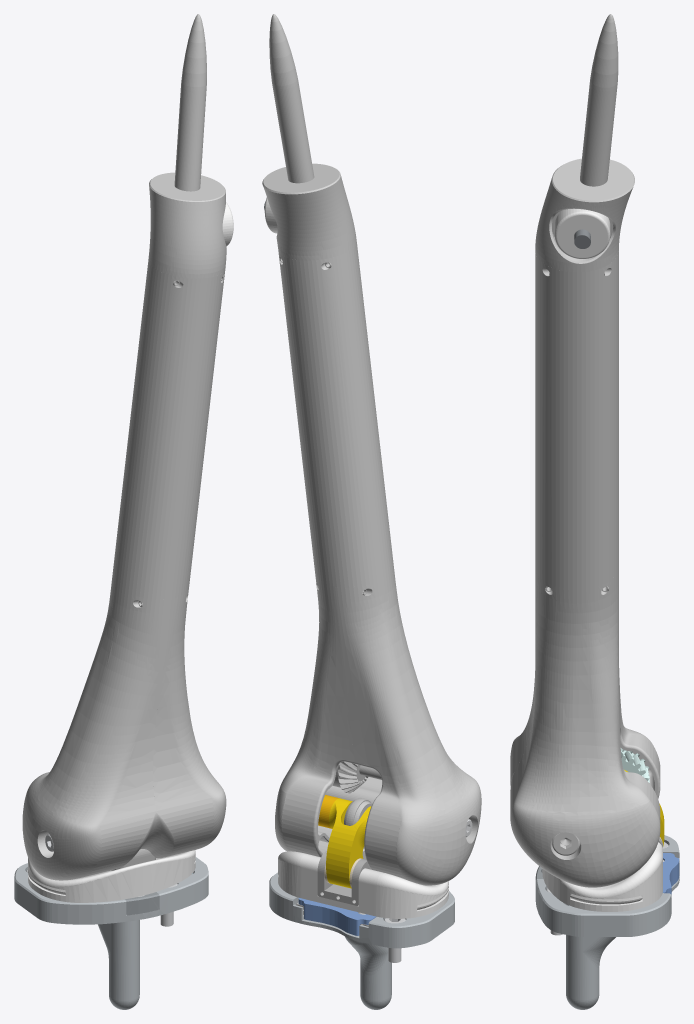
The model's file is aakj-v3-native-rebound.glb.
The picture shows the model from 3 angles, left to right: view 1: azimuth 30°, elevation 25°; view 2: azimuth 150°, elevation 25°; view 3: azimuth 270°, elevation 25°; orthographic projection. The views are drawn at different scales.
Parts seen in each view (by area): view 1: condyle_right::visual0, motor_housing::visual0, femur_stem::visual0, condyle_left::visual0, tibial_base::visual0, insert_right::visual0, insert_left::visual0, Slider_Cover, linkage_base::visual0; view 2: motor_housing::visual0, condyle_right::visual0, condyle_left::visual0, femur_stem::visual0, tibial_base::visual0, insert_right::visual0, link_3::visual0, insert_left::visual0, plate::visual0, linkage_base::visual0, part_49::visual0; view 3: condyle_left::visual0, motor_housing::visual0, femur_stem::visual0, tibial_base::visual0, insert_left::visual0, fem_4_7::visual0, condyle_right::visual0, insert_middle::visual0, plate::visual0, helical_1m_21t::visual0, lmsbm6_5_60::visual0, linkage_base::visual0.
Boxes of the visible parts, x1,y1,x2,y2 form: condyle_right::visual0: (22, 581, 169, 880); motor_housing::visual0: (112, 261, 225, 599); femur_stem::visual0: (148, 14, 226, 283); condyle_left::visual0: (140, 590, 226, 858); tibial_base::visual0: (14, 857, 208, 1009); insert_right::visual0: (28, 858, 142, 902); insert_left::visual0: (141, 850, 195, 895); Slider_Cover: (125, 892, 159, 915); linkage_base::visual0: (28, 849, 195, 894); motor_housing::visual0: (278, 242, 393, 587); condyle_right::visual0: (335, 569, 481, 885); condyle_left::visual0: (275, 578, 382, 857); femur_stem::visual0: (262, 14, 356, 265); tibial_base::visual0: (269, 872, 454, 1009); insert_right::visual0: (338, 868, 448, 918); link_3::visual0: (326, 798, 371, 888); insert_left::visual0: (278, 851, 337, 907); plate::visual0: (298, 898, 376, 935); linkage_base::visual0: (278, 851, 448, 909); part_49::visual0: (332, 761, 381, 793); condyle_left::visual0: (510, 569, 660, 887); motor_housing::visual0: (535, 251, 618, 589); femur_stem::visual0: (535, 14, 634, 272); tibial_base::visual0: (535, 835, 679, 1009); insert_left::visual0: (542, 842, 662, 907); fem_4_7::visual0: (554, 208, 610, 258); condyle_right::visual0: (510, 668, 660, 798); insert_middle::visual0: (570, 897, 642, 911); plate::visual0: (662, 853, 679, 894); helical_1m_21t::visual0: (620, 748, 649, 782); lmsbm6_5_60::visual0: (552, 832, 579, 855); linkage_base::visual0: (570, 837, 662, 904).
Size of the model in its own units: 0.0867 by 0.4114 by 0.0607.
